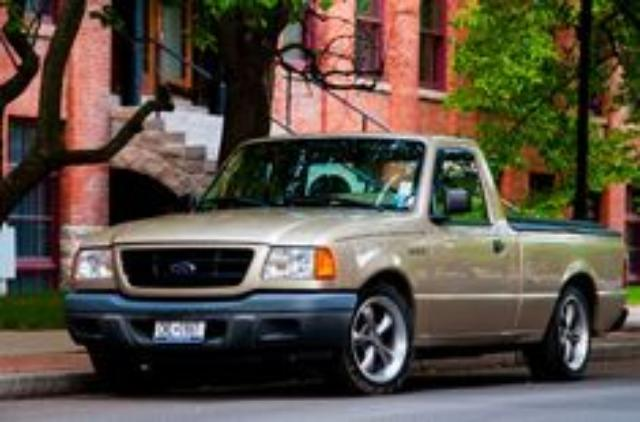pickup-truck: (64, 132, 630, 396)
